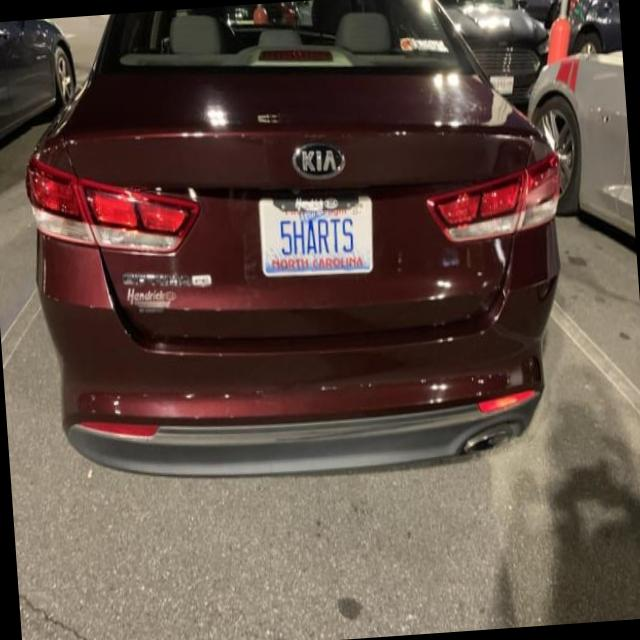LicensePlate: (258, 196, 372, 278)
